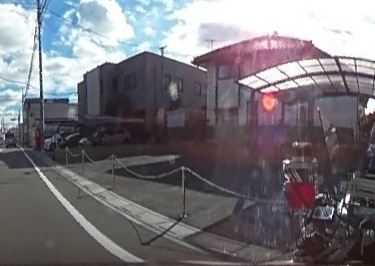person: (372, 74, 375, 256)
